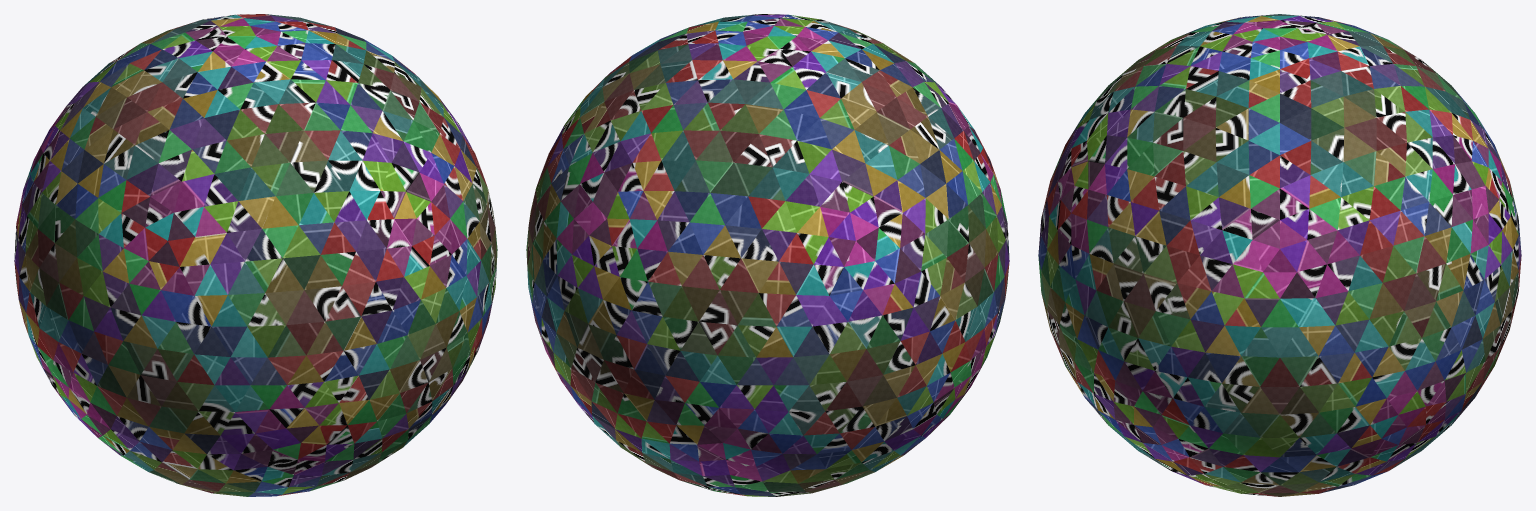
File: planet.obj
The picture shows the model from 3 angles, left to right: view 1: azimuth 30°, elevation 25°; view 2: azimuth 150°, elevation 25°; view 3: azimuth 270°, elevation 25°; orthographic projection.
Parts seen in each view (by area): view 1: Cube; view 2: Cube; view 3: Cube.
Part boxes in pixels (x1=…): Cube: x1=14, y1=14, x2=497, y2=496; Cube: x1=526, y1=14, x2=1009, y2=496; Cube: x1=1038, y1=14, x2=1521, y2=496.
Bounding box in the file's own units: 2 × 2 × 2.
1 material, 1 textured.
